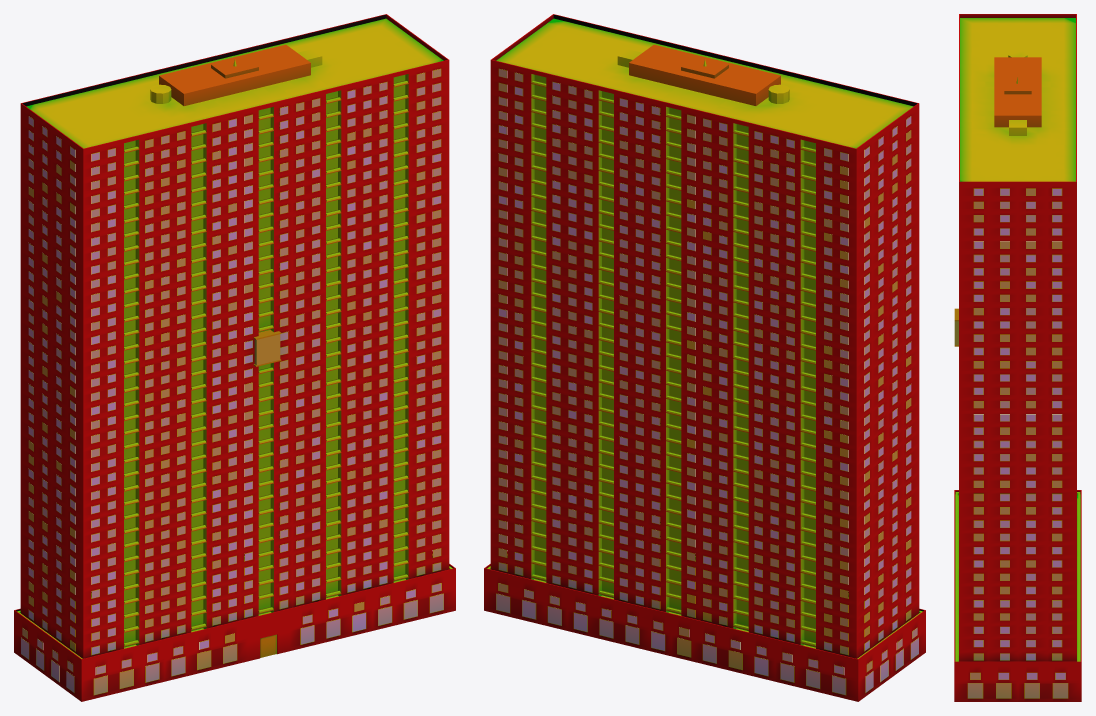
Rendered from kanopi.glb.
The picture shows the model from 3 angles, left to right: view 1: azimuth 30°, elevation 25°; view 2: azimuth 150°, elevation 25°; view 3: azimuth 270°, elevation 25°; orthographic projection. The views are drawn at different scales.
Parts seen in each view (by area): view 1: kanopi__tower__LOD0; view 2: kanopi__tower__LOD0; view 3: kanopi__tower__LOD0.
Boxes of the visible parts, x1,y1,x2,y2 form: kanopi__tower__LOD0: [14, 14, 455, 701]; kanopi__tower__LOD0: [484, 14, 925, 701]; kanopi__tower__LOD0: [954, 14, 1081, 701].
Size of what is drawn, in the model's own units: 88.97 by 130 by 27.88.
